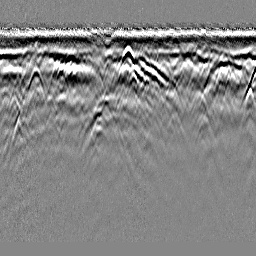cavity: (119, 43, 135, 64)
